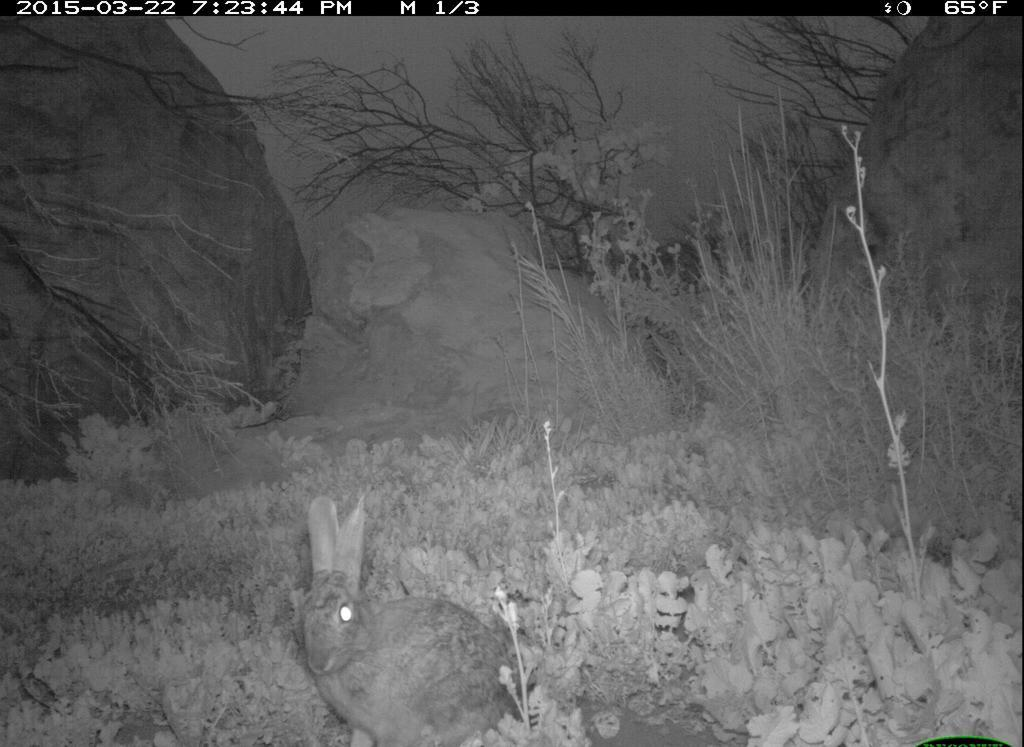rabbit: (281, 492, 519, 743)
